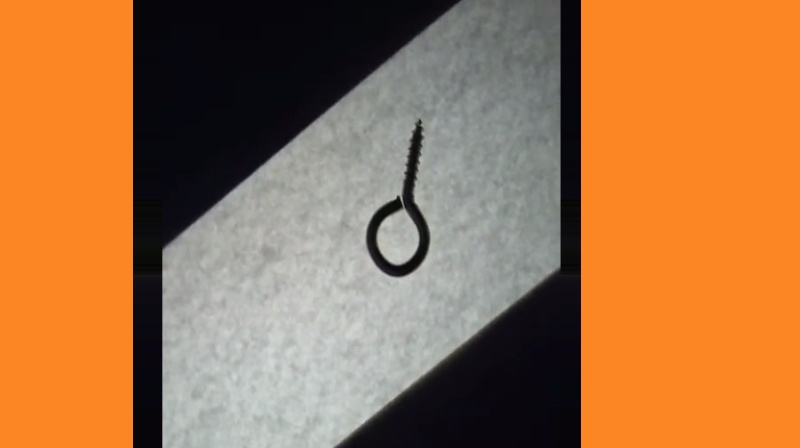O001: (361, 117, 435, 281)
